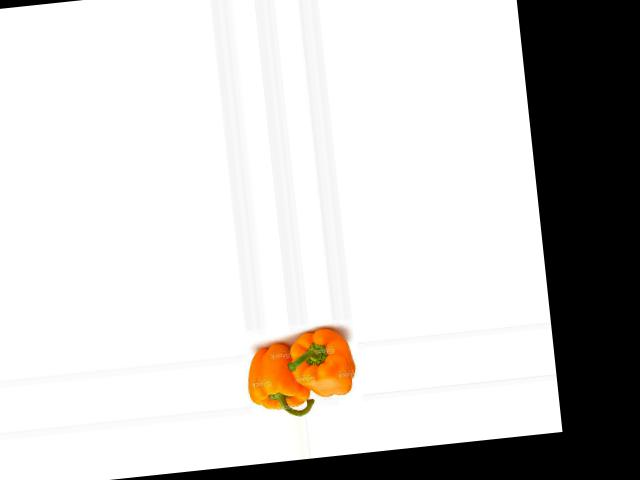bell_pepper: (242, 339, 318, 418)
